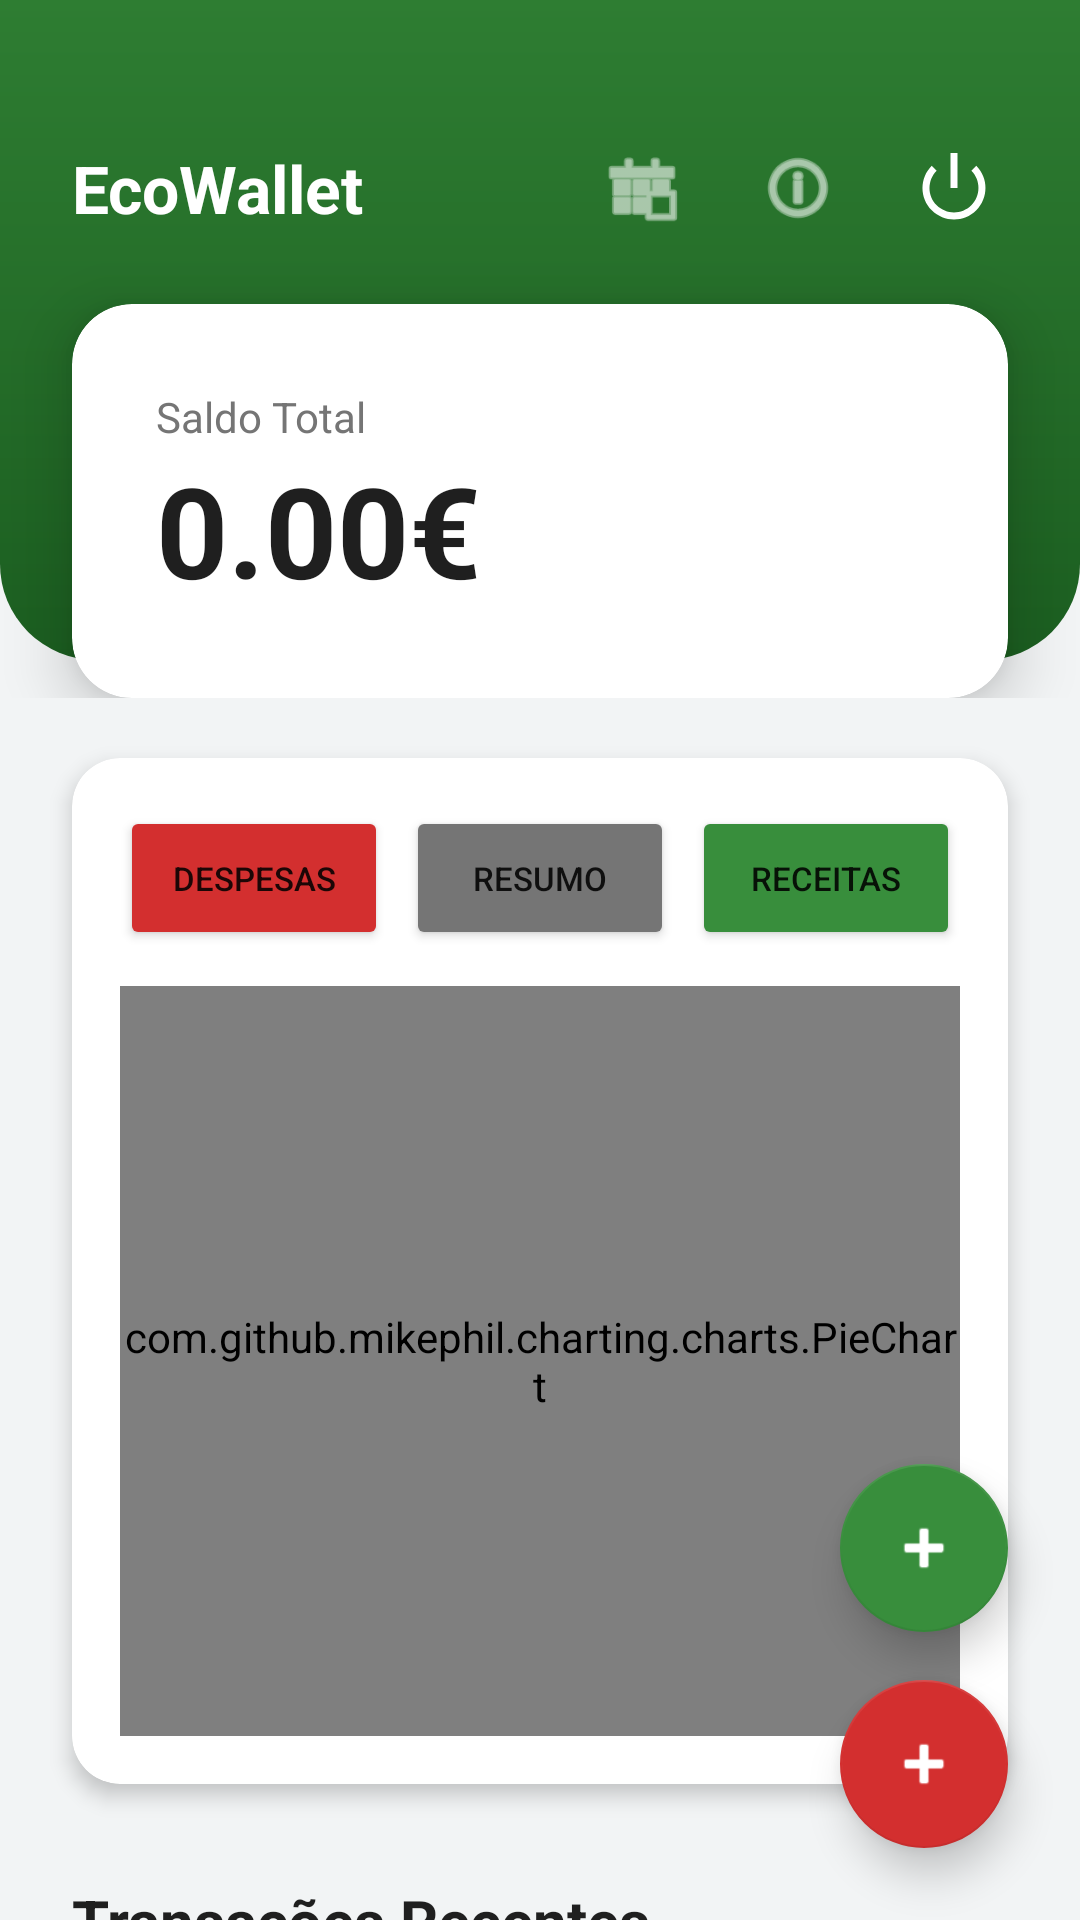

Point at icon controls on the screen. Image size 1080*1920, points as (x=x, y=y).
add: (x=924, y=1548), (x=924, y=1764)
info details: (x=798, y=188)
lock power off: (x=954, y=186)
today: (x=642, y=189)
